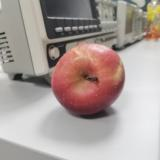apple: (52, 43, 125, 116)
